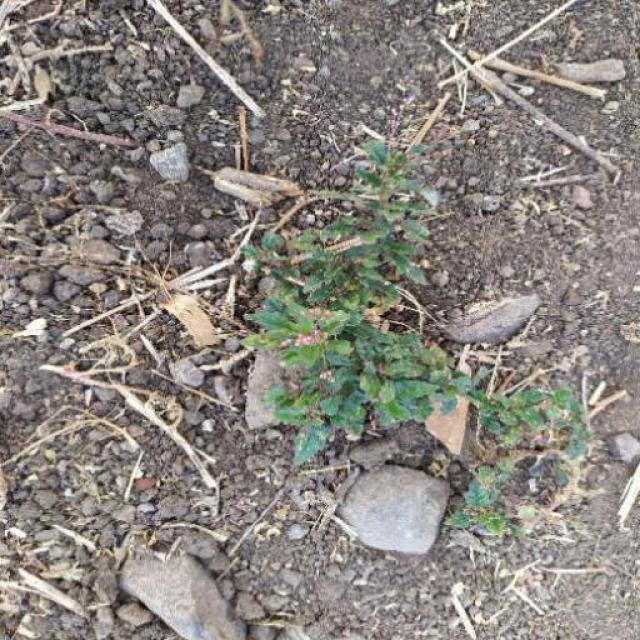weed: (232, 148, 574, 512)
